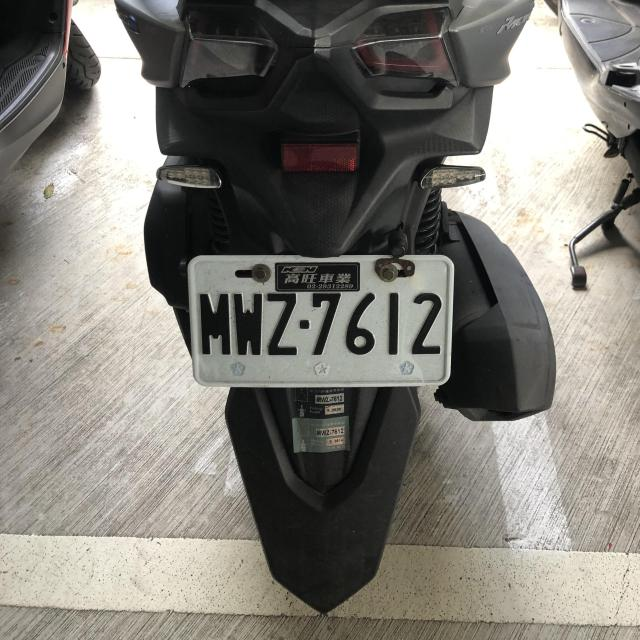W: (185, 253, 454, 391)
